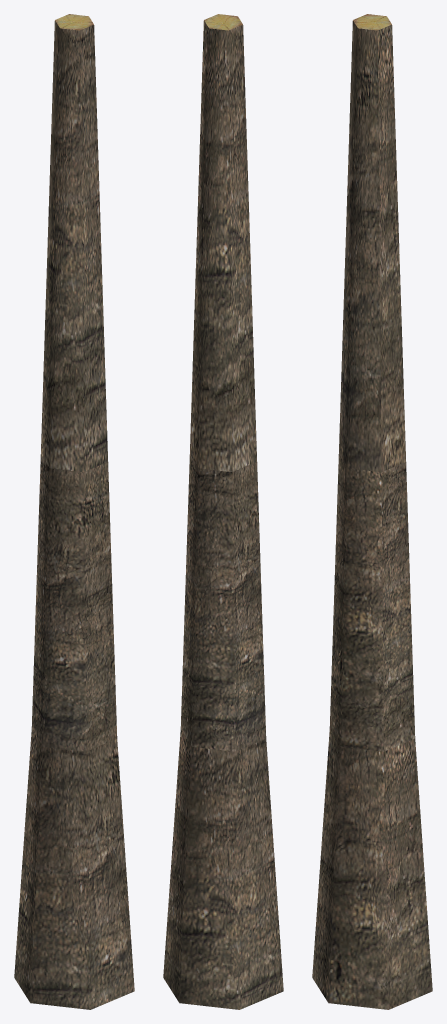
Rendered from fracturePiece1.fbx.
3 views of the same model, side by side, from view 1: azimuth 90°, elevation 25°; view 2: azimuth 150°, elevation 25°; view 3: azimuth 270°, elevation 25° (orthographic).
Visible parts, largest first — view 1: polySurface1; view 2: polySurface1; view 3: polySurface1.
Boxes of the visible parts, left/top/right/bottom form: polySurface1: left=14, top=14, right=134, bottom=1009; polySurface1: left=163, top=14, right=283, bottom=1009; polySurface1: left=312, top=14, right=432, bottom=1009.
Bounding box in the file's own units: 121 × 1062 × 121.
